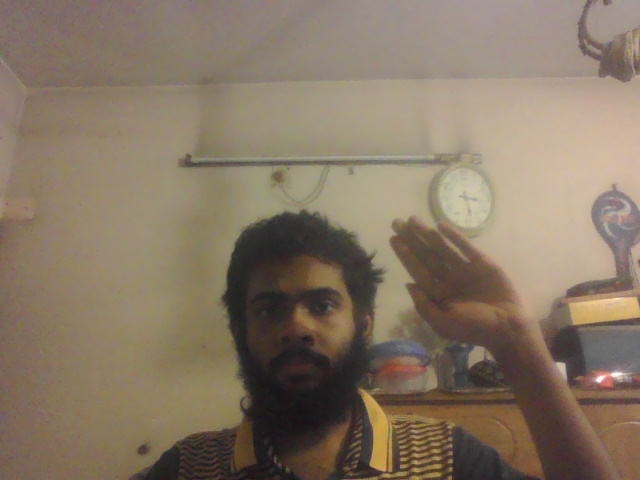Hello: (387, 216, 537, 342)
